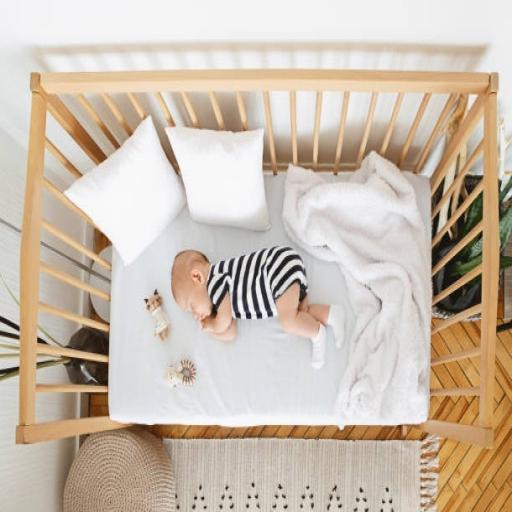baby: (172, 246, 344, 369)
crib: (16, 70, 499, 446)
